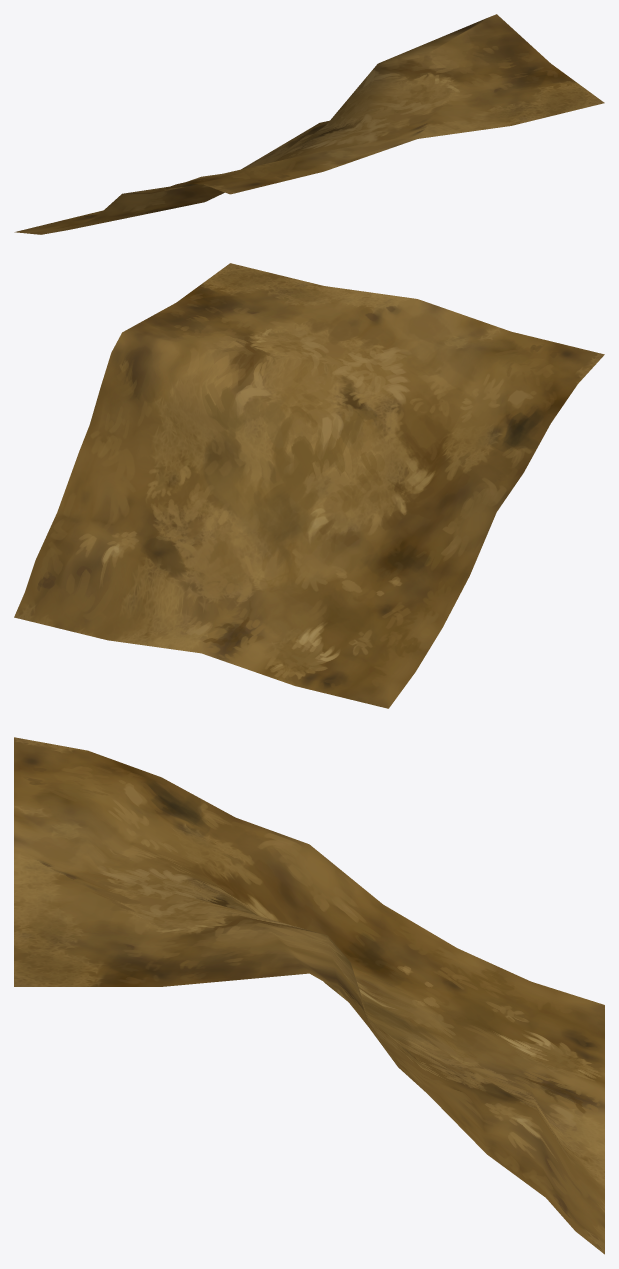
The model's file is Slope_Level_003.fbx.
The picture shows the model from 3 angles, top to bottom: view 1: azimuth 30°, elevation 25°; view 2: azimuth 150°, elevation 25°; view 3: azimuth 270°, elevation 25°; orthographic projection. The views are drawn at different scales.
Visible parts, largest first — view 1: Slope_Level_003; view 2: Slope_Level_003; view 3: Slope_Level_003.
Boxes of the visible parts, x1,y1,x2,y2 form: Slope_Level_003: [14, 14, 604, 234]; Slope_Level_003: [14, 263, 604, 708]; Slope_Level_003: [14, 737, 604, 1254].
Bounding box in the file's own units: 10 × 5.25 × 10.
Materials: 1 (1 with a texture image).
